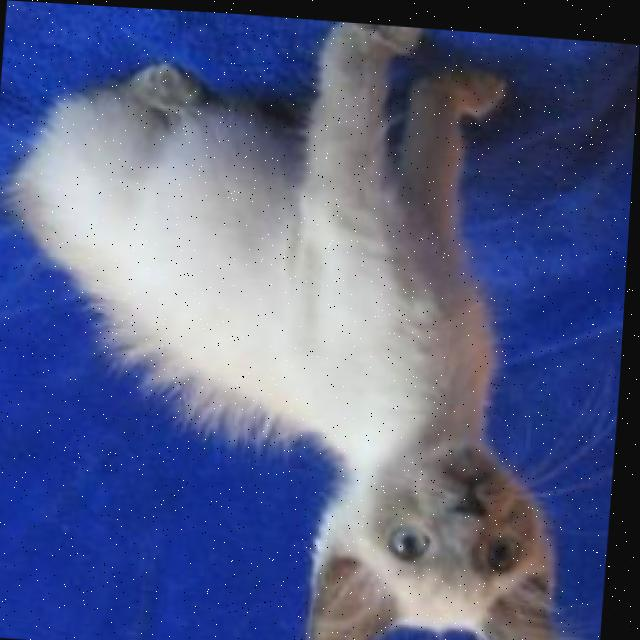Ragdoll: (0, 0, 612, 640)
